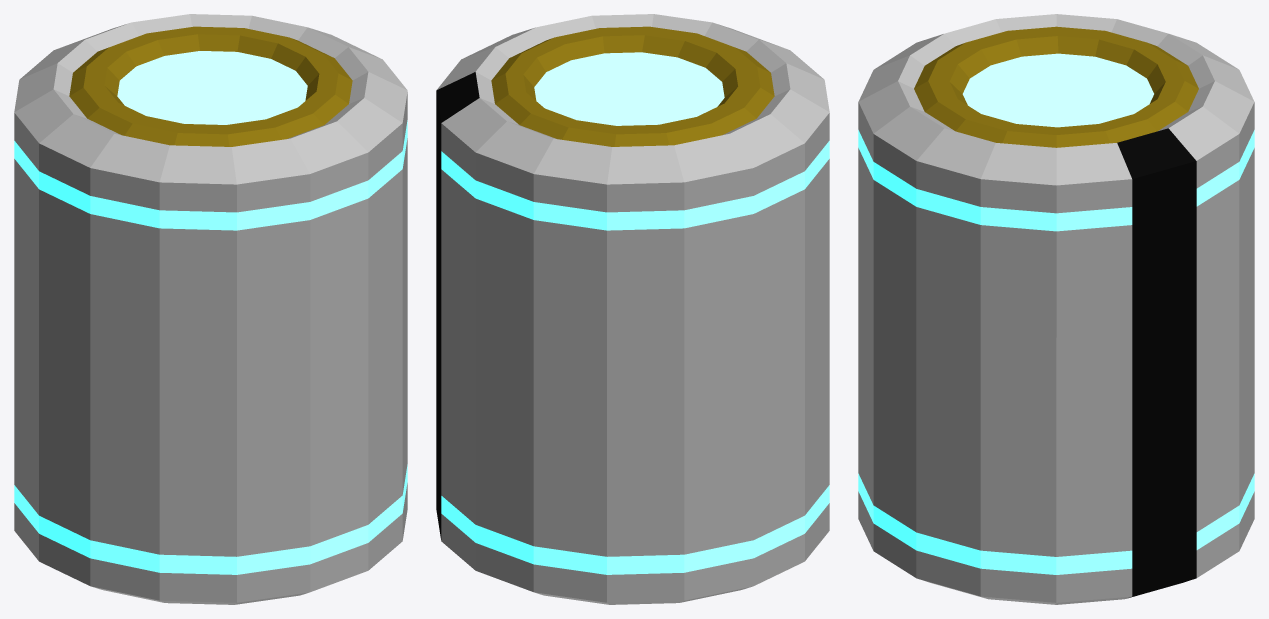
Rendered from Big Energy can .fbx.
3 views of the same model, side by side, from view 1: azimuth 30°, elevation 25°; view 2: azimuth 150°, elevation 25°; view 3: azimuth 270°, elevation 25° (orthographic).
Visible parts, largest first — view 1: Cylinder.001; view 2: Cylinder.001; view 3: Cylinder.001.
Part boxes in pixels (<box>): Cylinder.001: <box>14,14,407,604</box>; Cylinder.001: <box>436,14,829,604</box>; Cylinder.001: <box>858,14,1254,604</box>.
Size of the model in its own units: 80 by 100 by 80.
